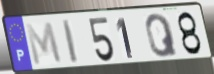1: (115, 17, 134, 59)
5: (87, 15, 115, 63)
8: (176, 11, 203, 57)
I: (61, 19, 81, 66)
M: (24, 21, 65, 68)
Q: (144, 12, 180, 59)
